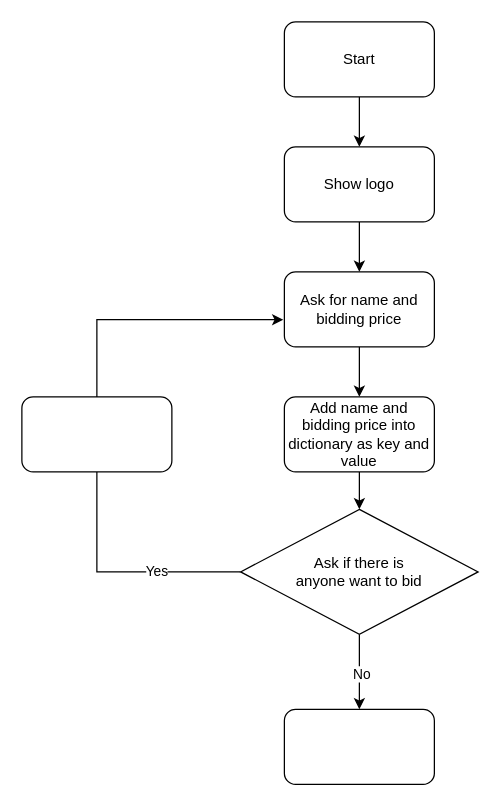
The diagram is 500 pixels wide and 806 high, and some of its shapes have lost their labels. The centre of each missing label's shape, as x and y in pixels:
"Clear screen" belongs at point 96,434.
"Find the highest bid and declare them as winner" belongs at point 358,746.
